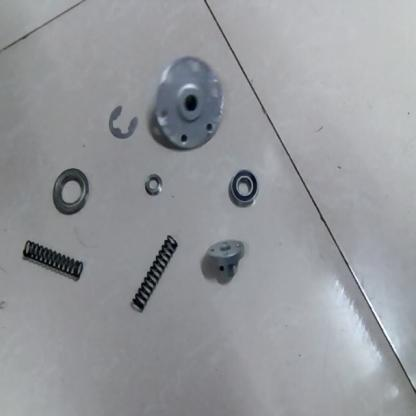FOD: (151, 51, 230, 154), (128, 227, 179, 317), (19, 236, 89, 285), (202, 232, 247, 292), (49, 159, 93, 219), (104, 100, 140, 144), (224, 166, 262, 204), (145, 169, 162, 199)
